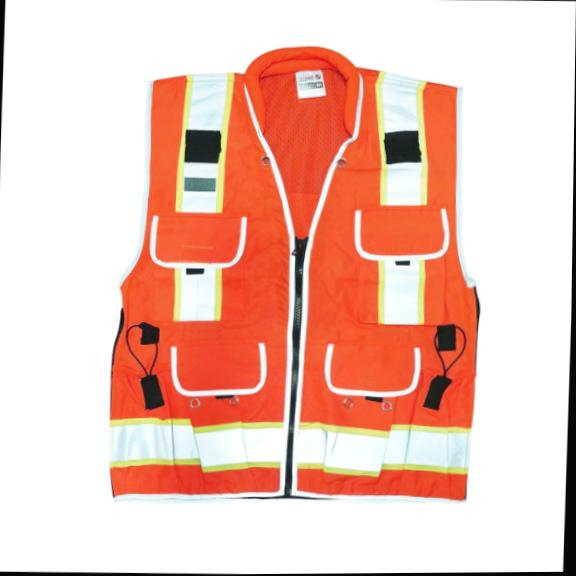safety_vest: (104, 40, 494, 511)
